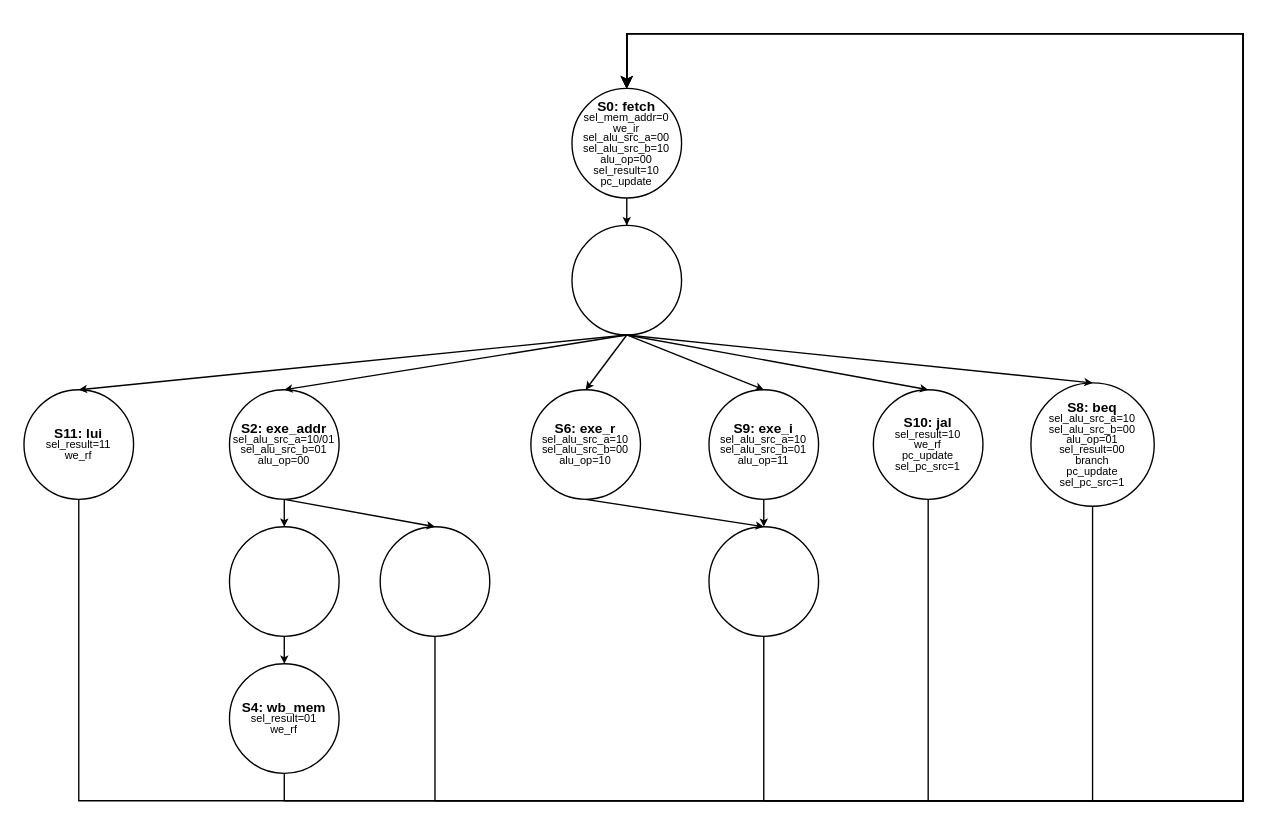
This 1278x836 diagram has some shape labels left out. Each missing label, with the centre of its shape:
"S1: decode" goes at (x=626, y=279).
"S3: mem_rd sel_result=00 sel_mem_addr=1" goes at (x=283, y=580).
"S5: mem_wr sel_result=00 sel_mem_addr=1 we_mem" goes at (x=434, y=580).
"S7: wb_alu sel_result=00 we_rf" goes at (x=763, y=580).
